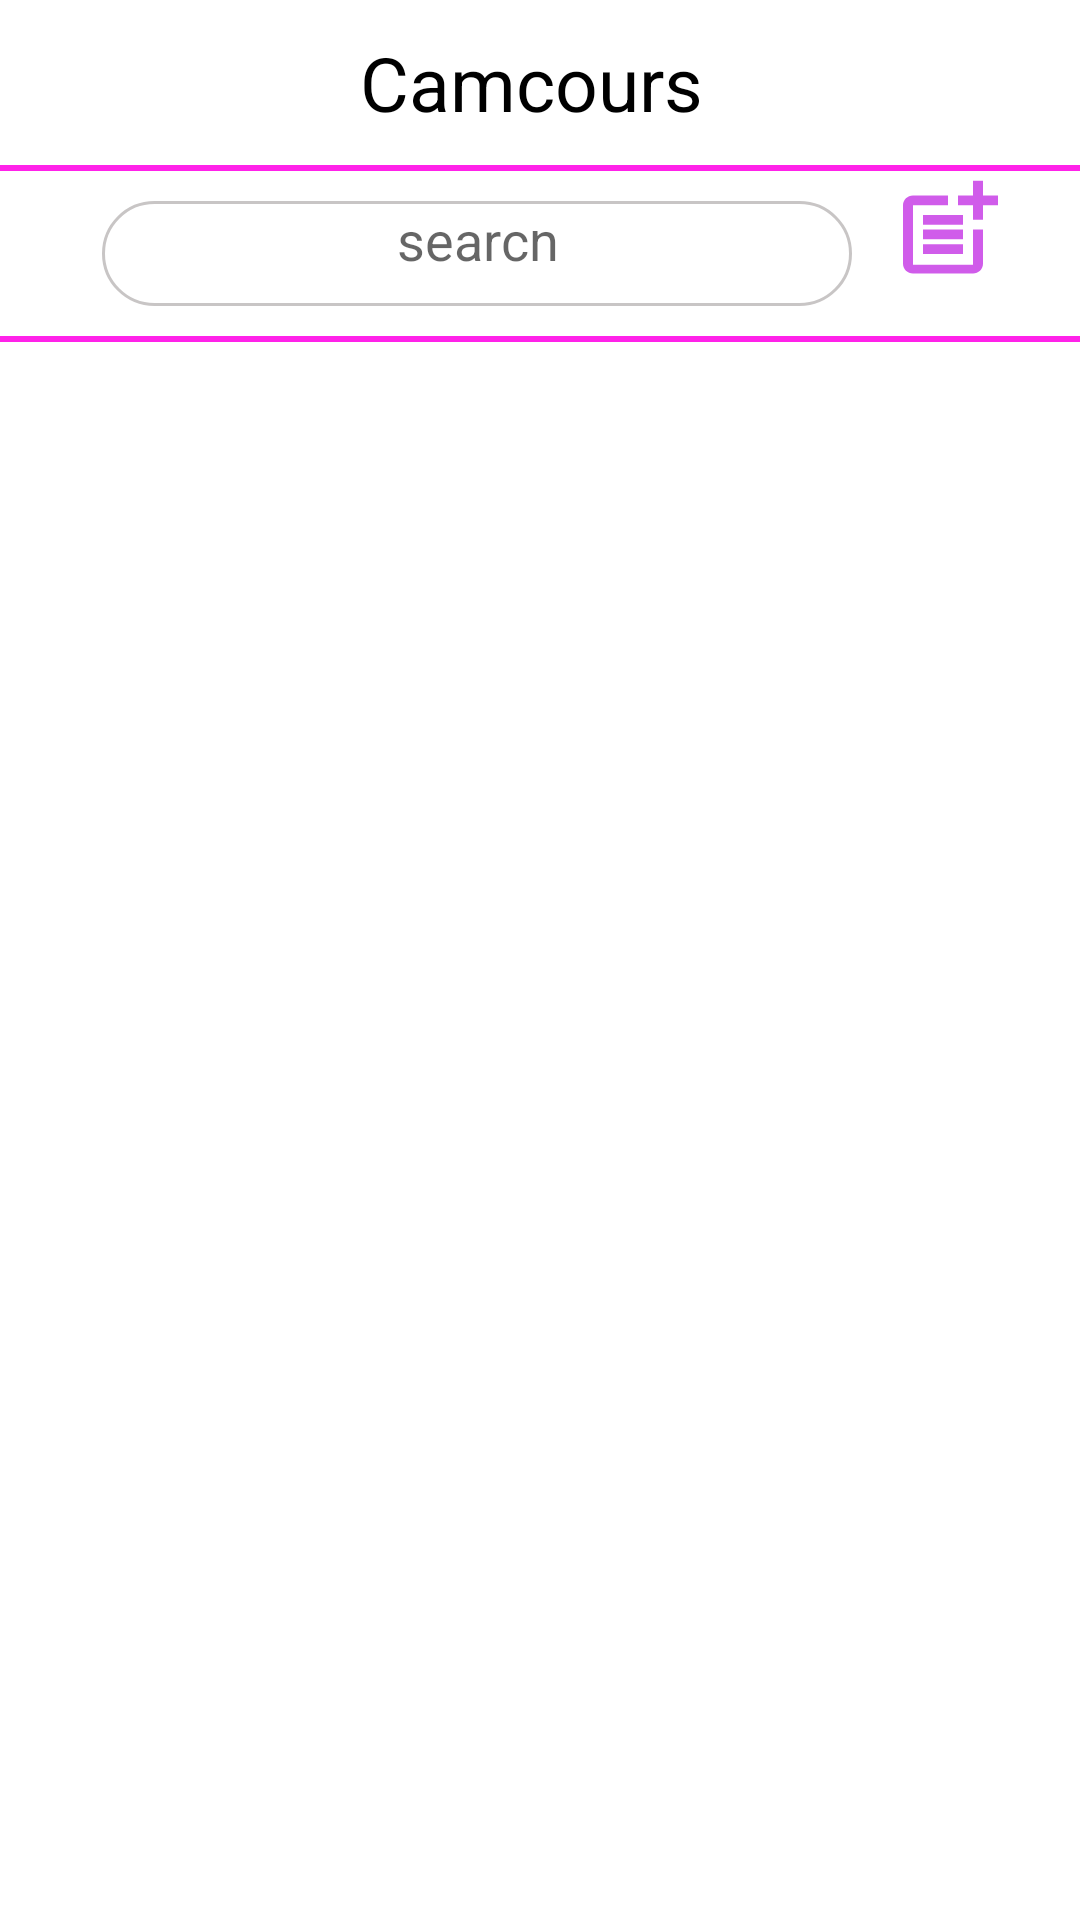

Where to tap for icons on this 1080 × 1920 app screen, as [x,y]:
add: [950,227]
